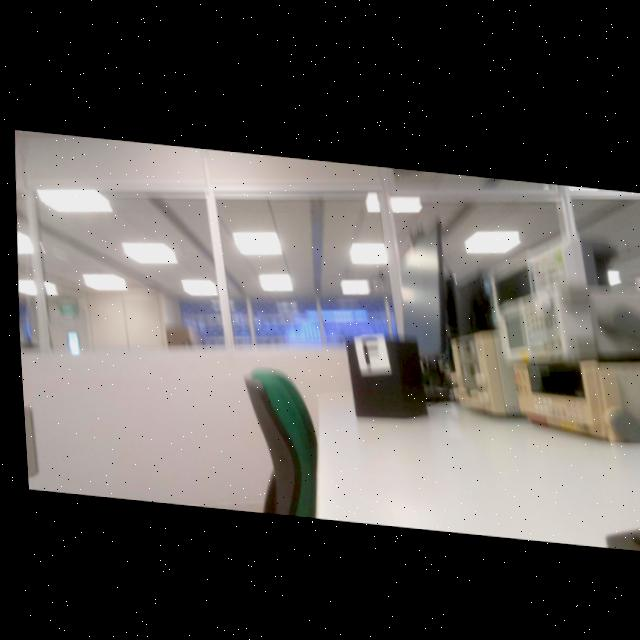F: (357, 330, 374, 360)
